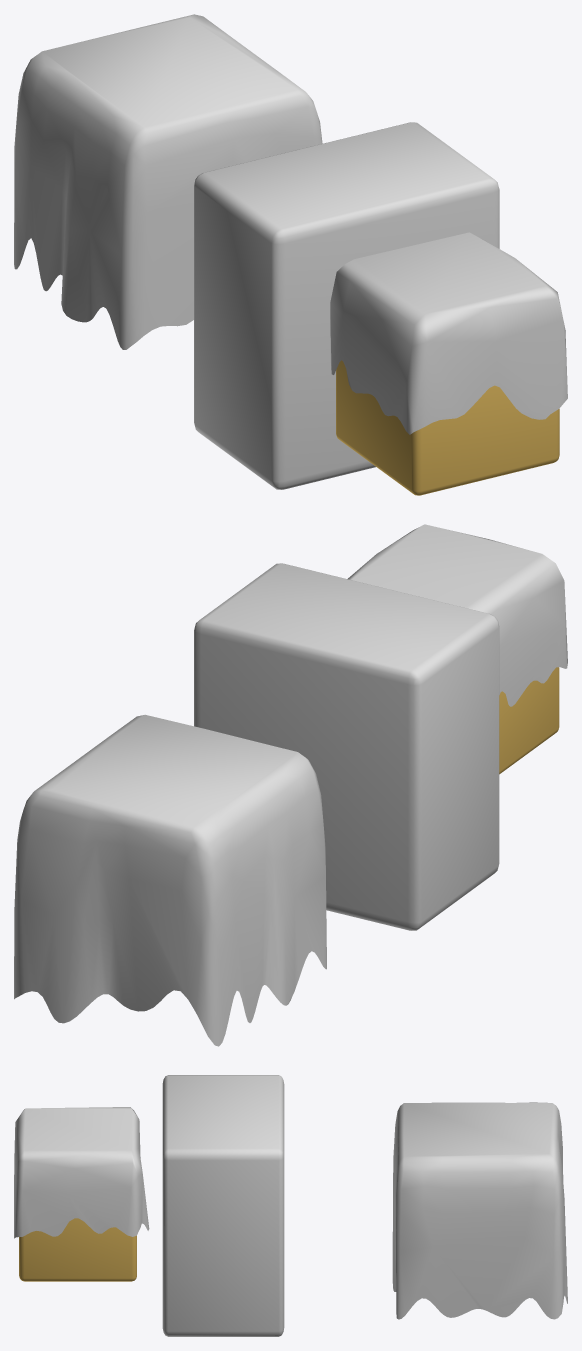
File: candy terrain.fbx
3 renders of one model, top to bottom at view 1: azimuth 30°, elevation 25°; view 2: azimuth 150°, elevation 25°; view 3: azimuth 270°, elevation 25°, orthographic. The views are drawn at different scales.
Parts seen in each view (by area): view 1: Cube.004, Cube.001, Cube.005, Cube; view 2: Cube.004, Cube.001, Cube.005, Cube; view 3: Cube.004, Cube.001, Cube.005, Cube.
Part boxes in pixels (bbox=[...]): Cube.004: bbox=[14, 14, 322, 349]; Cube.001: bbox=[194, 122, 499, 489]; Cube.005: bbox=[330, 232, 567, 434]; Cube: bbox=[336, 360, 559, 495]; Cube.004: bbox=[14, 714, 326, 1046]; Cube.001: bbox=[194, 563, 499, 930]; Cube.005: bbox=[347, 524, 567, 706]; Cube: bbox=[499, 667, 559, 774]; Cube.004: bbox=[392, 1102, 567, 1319]; Cube.001: bbox=[162, 1075, 284, 1336]; Cube.005: bbox=[14, 1107, 149, 1238]; Cube: bbox=[19, 1218, 136, 1281].
Size of the model in its own units: 1341 by 1468 by 3928.
